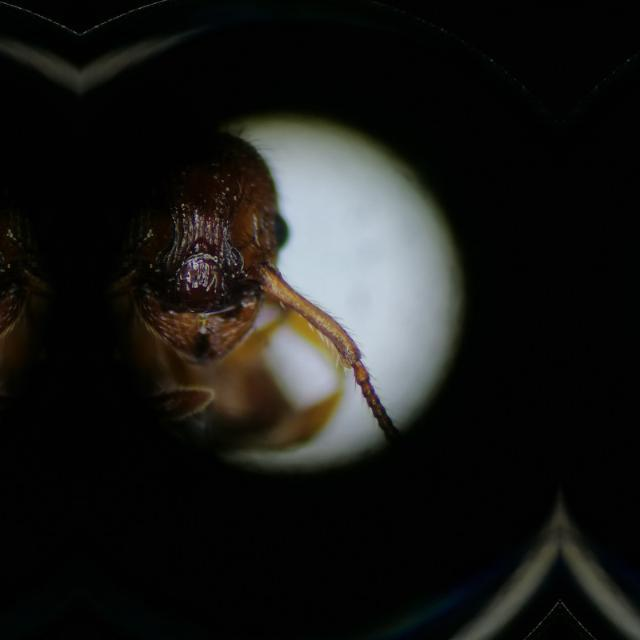Myrmica: (104, 83, 370, 449), (0, 83, 56, 449)
